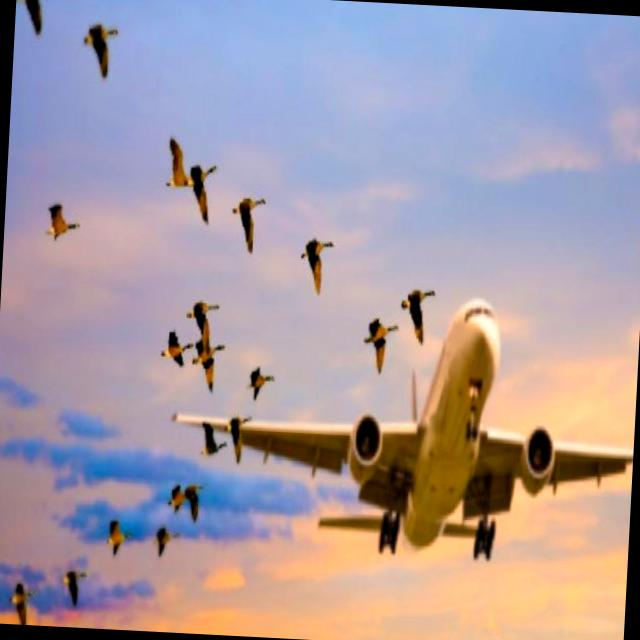bird: (78, 15, 130, 84), (294, 224, 338, 298), (228, 193, 275, 255), (356, 307, 400, 372), (399, 274, 438, 342), (96, 501, 135, 568), (42, 190, 84, 251), (186, 156, 226, 218), (153, 326, 194, 376), (162, 133, 192, 200), (57, 560, 94, 614), (192, 328, 224, 384), (4, 576, 38, 626), (182, 292, 228, 328), (151, 521, 184, 571), (226, 409, 256, 456), (198, 421, 230, 465), (15, 0, 53, 32), (246, 364, 276, 404), (182, 474, 210, 516), (164, 475, 192, 517)
